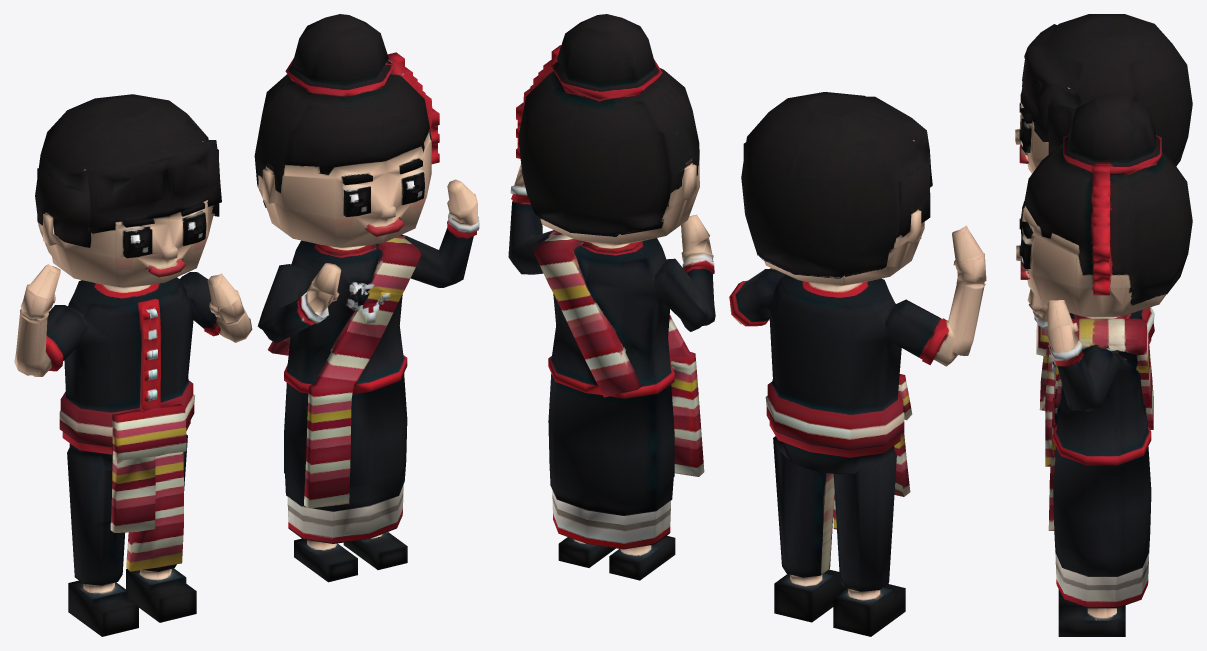
File: nonhom.glb
The picture shows the model from 3 angles, left to right: view 1: azimuth 30°, elevation 25°; view 2: azimuth 150°, elevation 25°; view 3: azimuth 270°, elevation 25°; orthographic projection. The views are drawn at different scales.
Visible parts, largest first — view 1: tripo_node_c484d035-434a-4360-9aa3-a83870a2b455; view 2: tripo_node_c484d035-434a-4360-9aa3-a83870a2b455; view 3: tripo_node_c484d035-434a-4360-9aa3-a83870a2b455.
Part boxes in pixels (box(x1,y1,x2,y2)): tripo_node_c484d035-434a-4360-9aa3-a83870a2b455: box(14, 14, 479, 636); tripo_node_c484d035-434a-4360-9aa3-a83870a2b455: box(508, 14, 986, 636); tripo_node_c484d035-434a-4360-9aa3-a83870a2b455: box(1015, 14, 1192, 636).
Size of the model in its own units: 0.8797 by 0.9751 by 0.3034.
Materials: 1 (1 with a texture image).
